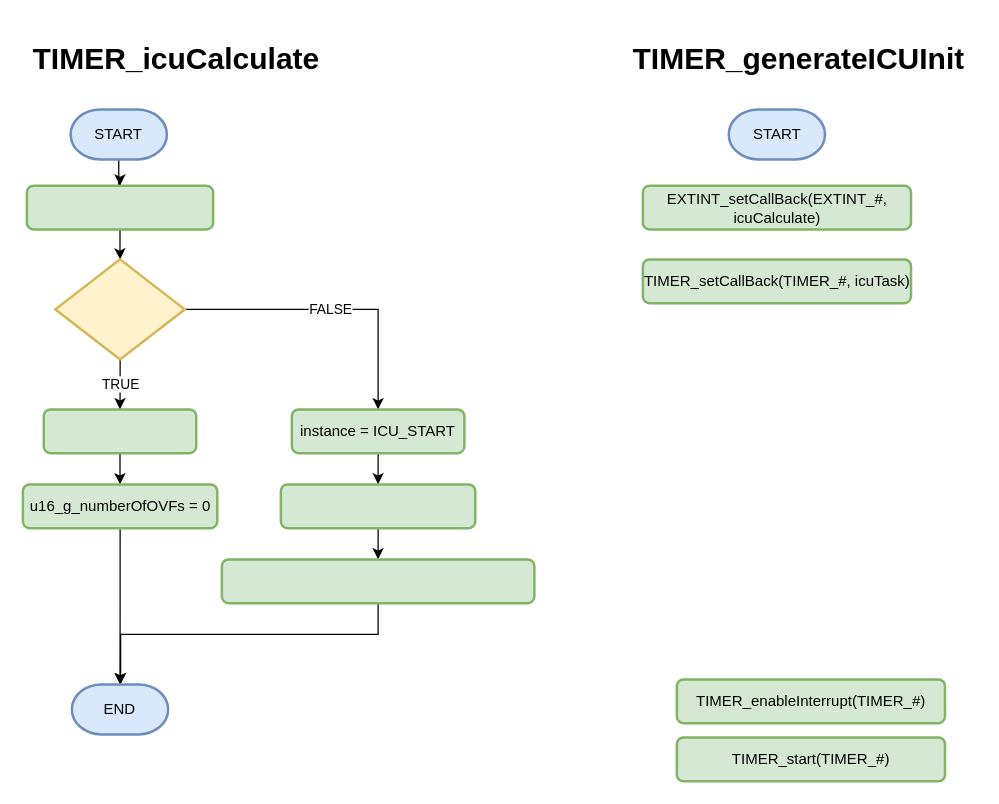
Image size: 999x804. Some labels were removed from this diagram. The centre of each missing label's shape, as x and y in pixels:
if instance == ICU_START: point 119,309
Initialize static local instance = ICU_START: point 119,207
instance = ICU_END: point 119,431
u32_g_numberOfTicks = numberOfOVFs + (TCNT1B * 256) + TCNT1A: point 377,581
u8_g_captureFlag = CAPTURED: point 377,505
